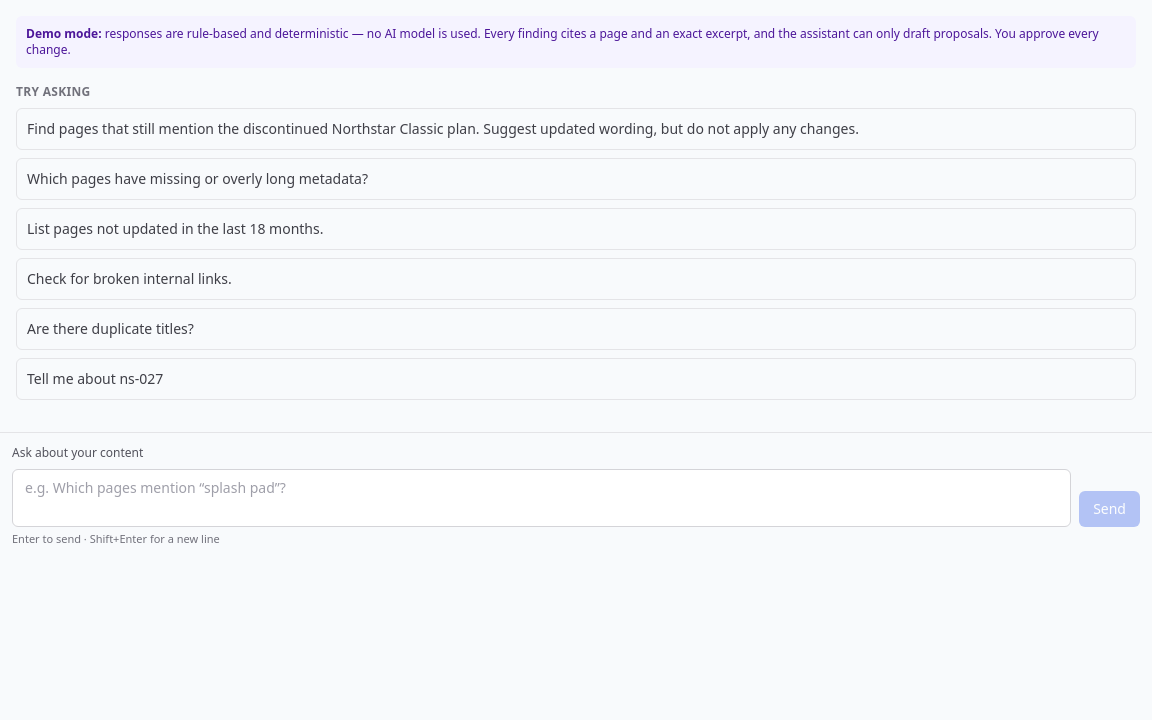
Conversation › sends an example prompt and renders evidence, drafts, notes, and tool calls
Click the button named "Find pages that still mention the discontinued Northstar Classic plan. Suggest updated wording, but do not apply any cha".
click(576, 129)  # box [16,108,1136,150]
(page scrolled)
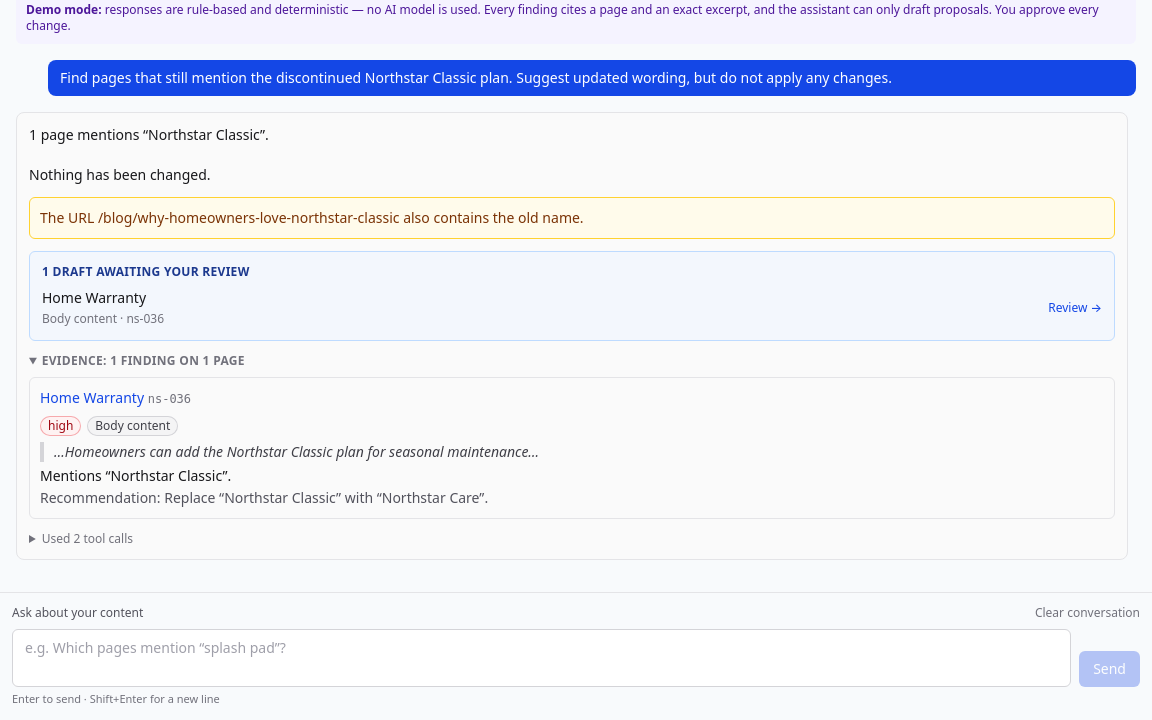
Now the text "Nothing has been changed" is shown, box [29,125,269,184]
Now the text "Homeowners can add the Northstar Classic plan" is shown, box [54,442,539,461]
Now the heading "1 draft awaiting your review" is shown, box [42,263,250,280]
